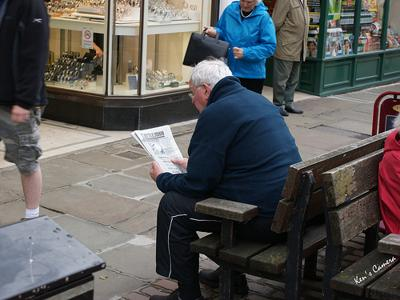person: (150, 61, 308, 299)
